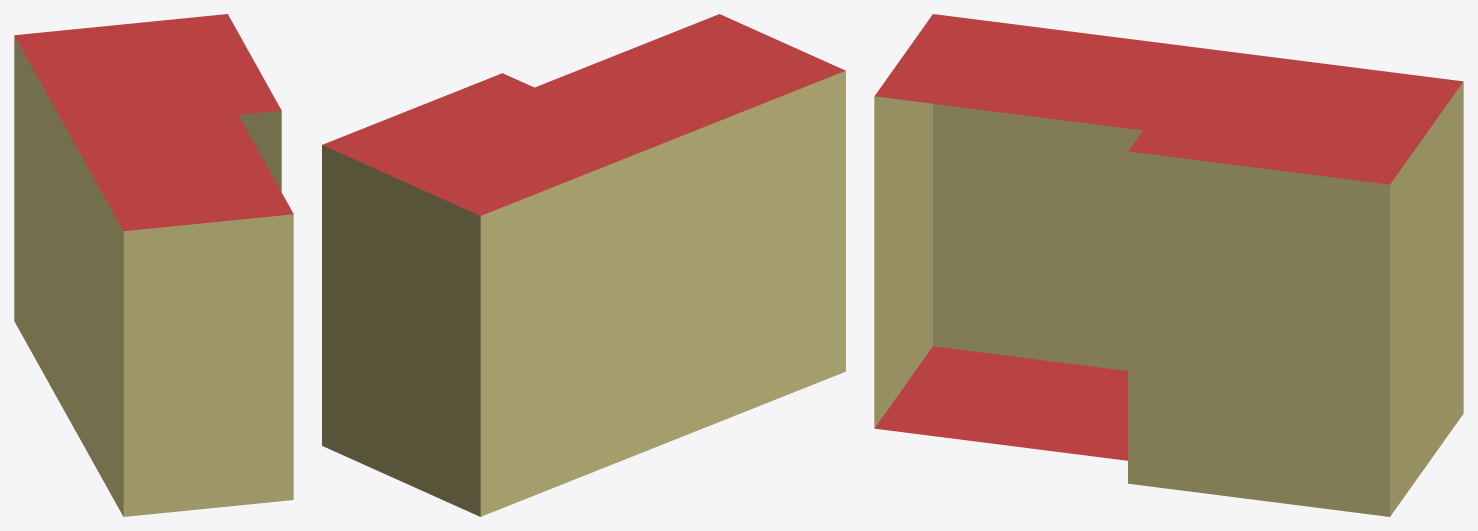
The picture shows the model from 3 angles, left to right: view 1: azimuth 30°, elevation 25°; view 2: azimuth 150°, elevation 25°; view 3: azimuth 270°, elevation 25°; orthographic projection. The views are drawn at different scales.
Parts seen in each view (by area): view 1: group_4, group_3; view 2: group_4, group_3; view 3: group_4, group_3, group_5.
Part boxes in pixels (x1,y1,x2,y2): group_4: (14,36,293,516); group_3: (14,14,293,231); group_4: (322,71,845,516); group_3: (322,14,845,215); group_4: (874,82,1463,516); group_3: (875,14,1463,184); group_5: (874,346,1127,460).
Bounding box in the file's own units: 6.5 × 9.49 × 5.9.
